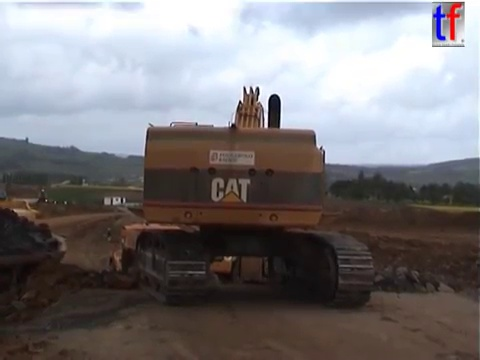excavator: (116, 81, 378, 312)
truck: (104, 219, 208, 306), (1, 193, 70, 304), (207, 222, 313, 290)
